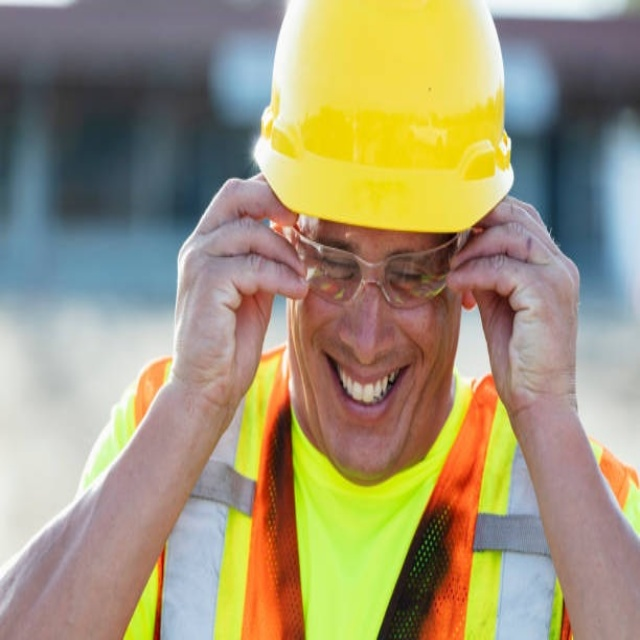Gafas: (281, 212, 461, 315)
Sin_guantes: (168, 169, 317, 422), (443, 190, 583, 425)
Sin_mascara: (310, 334, 418, 461)
